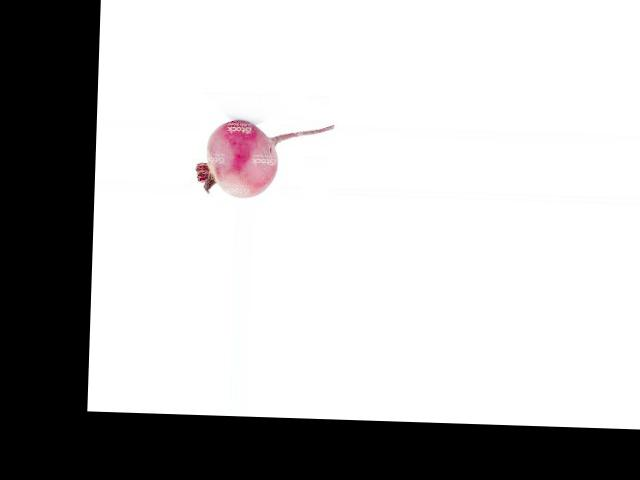beet: (194, 118, 333, 199)
